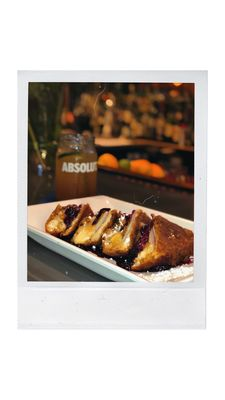salad: (101, 209, 153, 257), (45, 203, 87, 239)
